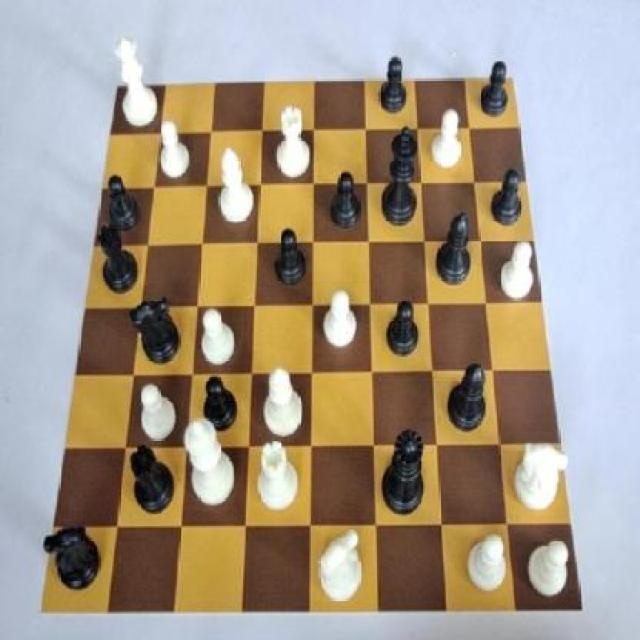bishop: (443, 360, 491, 436), (437, 210, 477, 284)
black-bishop: (382, 123, 420, 228)
black-king: (42, 520, 103, 595), (131, 294, 183, 368)
black-knight: (381, 297, 424, 361), (484, 166, 526, 228), (105, 171, 142, 234), (203, 374, 241, 432), (272, 226, 308, 287), (329, 168, 363, 230), (478, 59, 510, 120), (378, 54, 409, 115)
black-pawn: (378, 425, 430, 522)
black-queen: (124, 446, 176, 516), (95, 218, 141, 294)
black-rook: (262, 363, 308, 441), (212, 143, 256, 224)
white-bishop: (183, 414, 239, 511)
white-king: (511, 434, 568, 514), (314, 528, 368, 605)
white-knight: (521, 534, 574, 598), (497, 237, 539, 306), (464, 529, 508, 593), (318, 286, 359, 354), (429, 103, 467, 172), (138, 382, 178, 446), (199, 306, 236, 370), (160, 117, 194, 185)
white-pawn: (110, 29, 158, 130)
white-queen: (254, 437, 298, 515), (274, 105, 313, 180)
